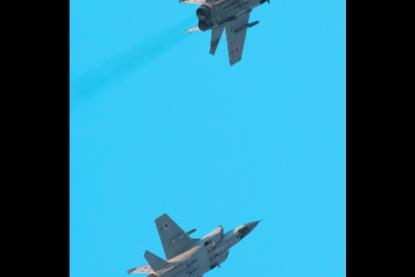Mig31: (178, 0, 315, 66), (125, 212, 265, 276)
